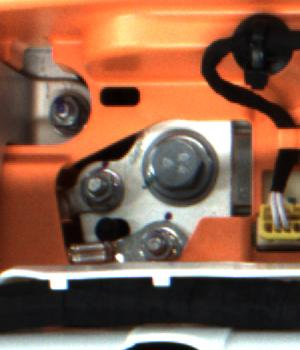nut_b: (140, 126, 219, 198)
